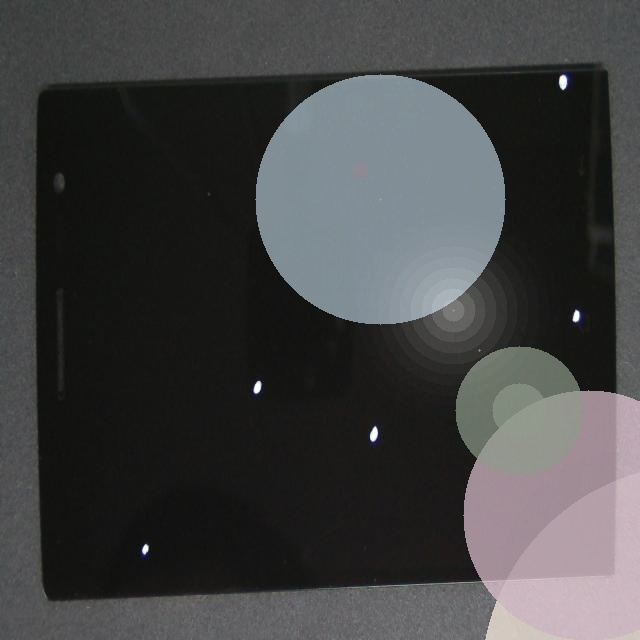stain: (152, 208, 546, 640), (96, 174, 371, 604), (301, 120, 640, 444), (39, 273, 203, 640), (274, 8, 640, 126)
